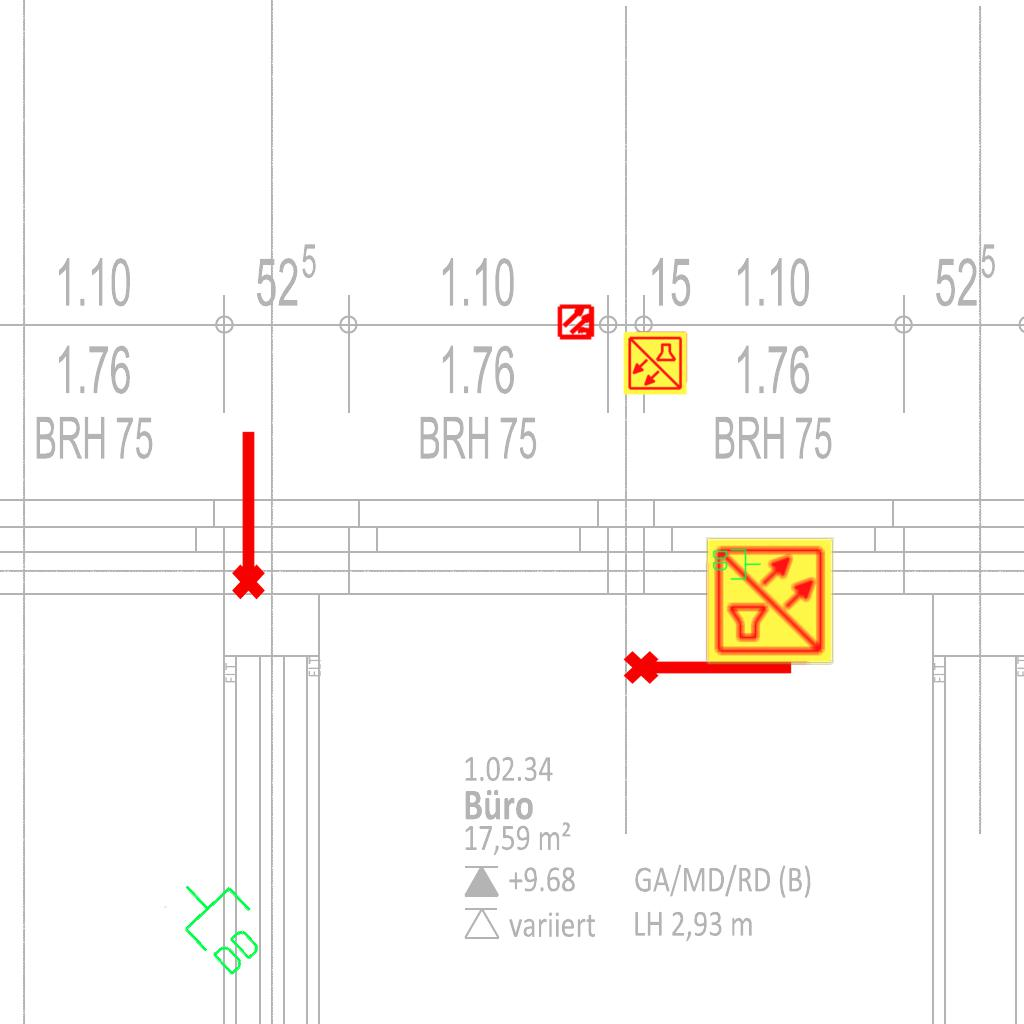ASR_Ansaugoeffnung: (621, 642, 797, 688), (223, 426, 269, 602)
Datenanschluss_zweifach: (159, 861, 280, 984), (711, 547, 762, 581)
OKW_Multisensormelder_(Kombination_optischer_Rauch-Kahlenmonoxid_Waerme-Melder): (704, 535, 836, 667), (622, 330, 688, 396)
OT_Multisensormelder_(Kombination_RMO_WMD): (549, 294, 605, 350)
